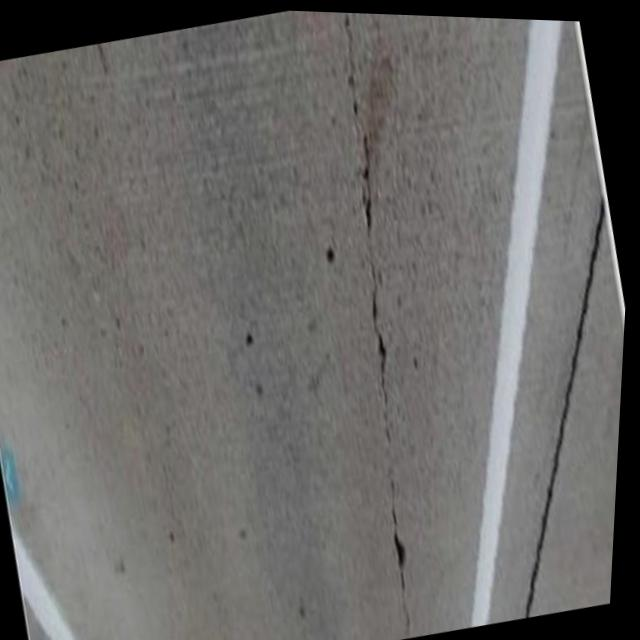Crack: (276, 9, 480, 584)
